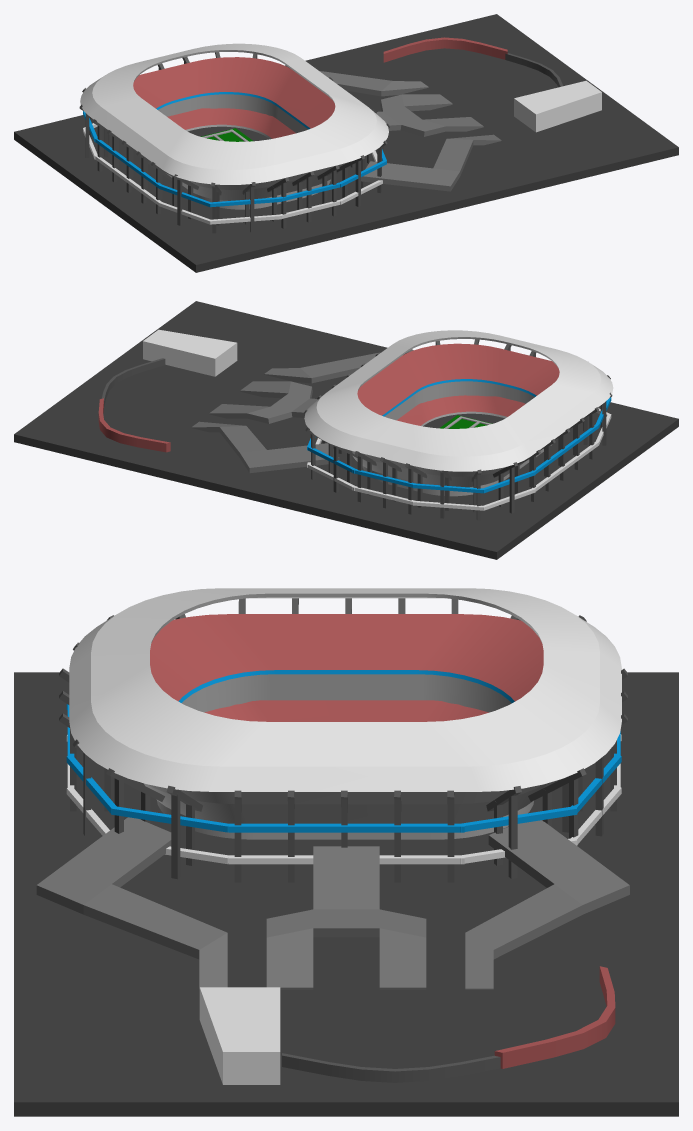
The model's file is Stadium.fbx.
The picture shows the model from 3 angles, top to bottom: view 1: azimuth 30°, elevation 25°; view 2: azimuth 150°, elevation 25°; view 3: azimuth 270°, elevation 25°; orthographic projection. The views are drawn at different scales.
Visible parts, largest first — view 1: pCube59; view 2: pCube59; view 3: pCube59.
Part boxes in pixels (bbox=[...]): pCube59: bbox=[14, 14, 678, 272]; pCube59: bbox=[14, 301, 678, 559]; pCube59: bbox=[14, 588, 678, 1116].
Bounding box in the file's own units: 38.27 × 5.97 × 25.
